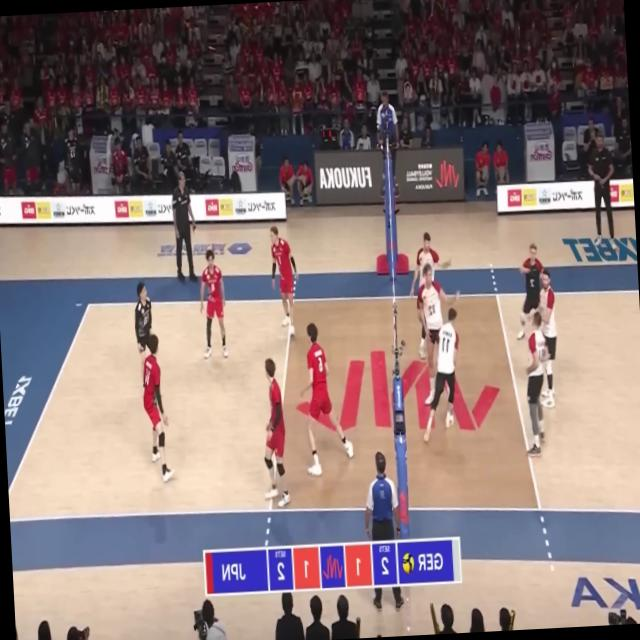referee: (362, 450, 407, 612)
team_one: (415, 262, 467, 408), (416, 307, 464, 443), (408, 230, 457, 358), (520, 310, 552, 456), (536, 272, 560, 409), (513, 243, 546, 340)
team_two: (298, 318, 356, 478), (140, 333, 174, 483), (258, 356, 290, 509), (269, 224, 301, 340), (197, 248, 229, 359), (132, 281, 160, 401)
